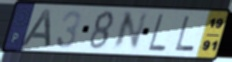3: (56, 9, 82, 49)
8: (88, 10, 116, 51)
A: (19, 7, 53, 49)
L: (174, 15, 197, 53), (146, 13, 167, 54)
N: (109, 10, 151, 52)
